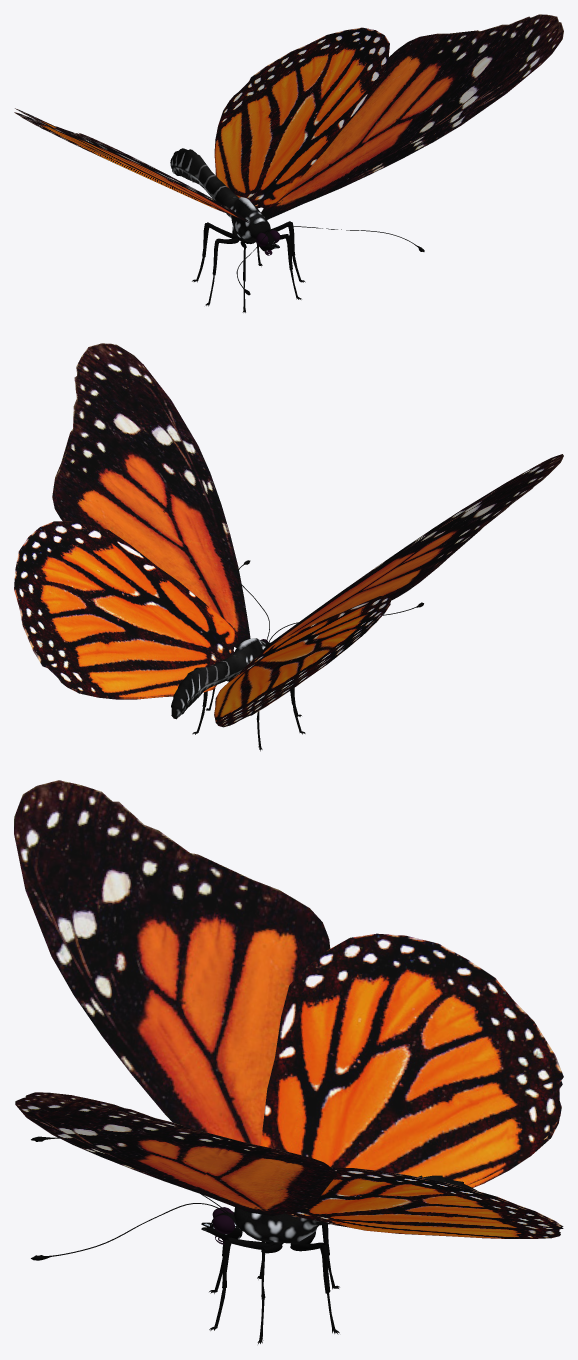
The model's file is Butterfly.FBX.
3 views of the same model, one above another, from view 1: azimuth 30°, elevation 25°; view 2: azimuth 150°, elevation 25°; view 3: azimuth 270°, elevation 25° (orthographic). The views are drawn at different scales.
Parts seen in each view (by area): view 1: WingLeft2Top, WingLeft1Bot, WingLeft, Butterfly, WingRight1Bot, WingRight2Bot; view 2: WingLeft2Top, WingLeft1Bot, WingLeft, WingRight, WingRight2Top, Butterfly, WingRight2Bot; view 3: WingRight, WingRight2Top, WingLeft2Bot, WingLeft, WingLeft1Bot, Butterfly.
Part boxes in pixels (x1=…): WingLeft2Top: x1=214, y1=27, x2=389, y2=208; WingLeft1Bot: x1=266, y1=14, x2=559, y2=220; WingLeft: x1=261, y1=22, x2=563, y2=219; Butterfly: x1=170, y1=148, x2=270, y2=242; WingRight1Bot: x1=55, y1=127, x2=249, y2=223; WingRight2Bot: x1=14, y1=112, x2=229, y2=214; WingLeft2Top: x1=14, y1=521, x2=238, y2=698; WingLeft1Bot: x1=52, y1=343, x2=242, y2=647; WingLeft: x1=55, y1=344, x2=250, y2=646; WingRight: x1=261, y1=454, x2=563, y2=652; WingRight2Top: x1=214, y1=596, x2=390, y2=722; Butterfly: x1=171, y1=638, x2=267, y2=719; WingRight2Bot: x1=215, y1=603, x2=390, y2=727; WingRight: x1=14, y1=780, x2=329, y2=1145; WingRight2Top: x1=260, y1=933, x2=563, y2=1185; WingLeft2Bot: x1=285, y1=1169, x2=563, y2=1238; WingLeft: x1=15, y1=1097, x2=329, y2=1192; WingLeft1Bot: x1=25, y1=1092, x2=336, y2=1216; Butterfly: x1=234, y1=1175, x2=478, y2=1243.
Size of the model in its own units: 7.96 by 5.78 by 4.37.
Materials: 6 (4 with a texture image).
